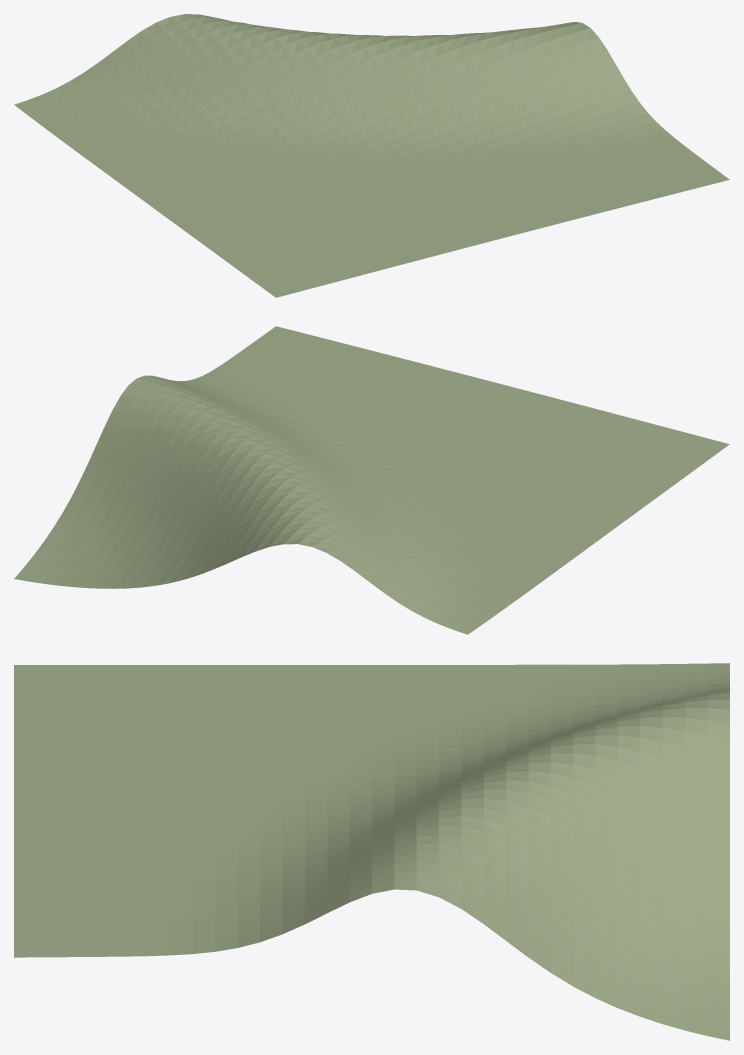
File: lunar-0-5.glb
3 renders of one model, top to bottom at view 1: azimuth 30°, elevation 25°; view 2: azimuth 150°, elevation 25°; view 3: azimuth 270°, elevation 25°, orthographic. The views are drawn at different scales.
Parts seen in each view (by area): view 1: lunar-0-5; view 2: lunar-0-5; view 3: lunar-0-5.
Boxes of the visible parts, left/top/right/bottom form: lunar-0-5: left=14, top=14, right=729, bottom=297; lunar-0-5: left=14, top=326, right=729, bottom=634; lunar-0-5: left=14, top=663, right=729, bottom=1040.
Size of the model in its own units: 128 by 29.85 by 128.
